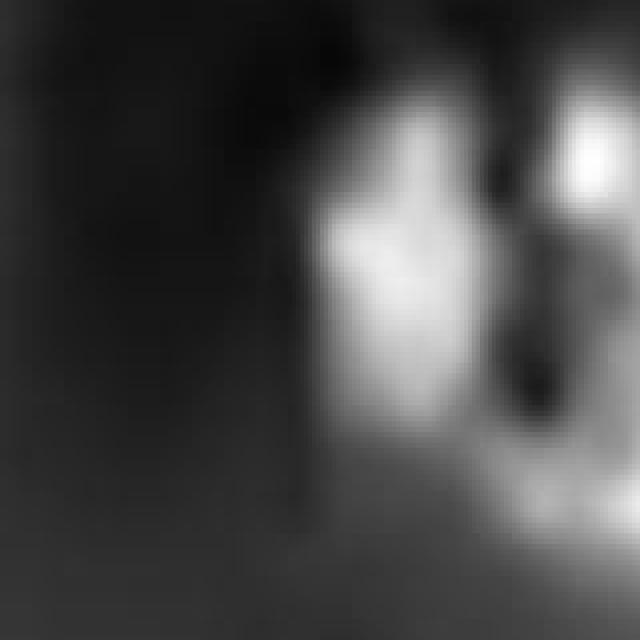person: (329, 54, 513, 511), (549, 44, 640, 550)
